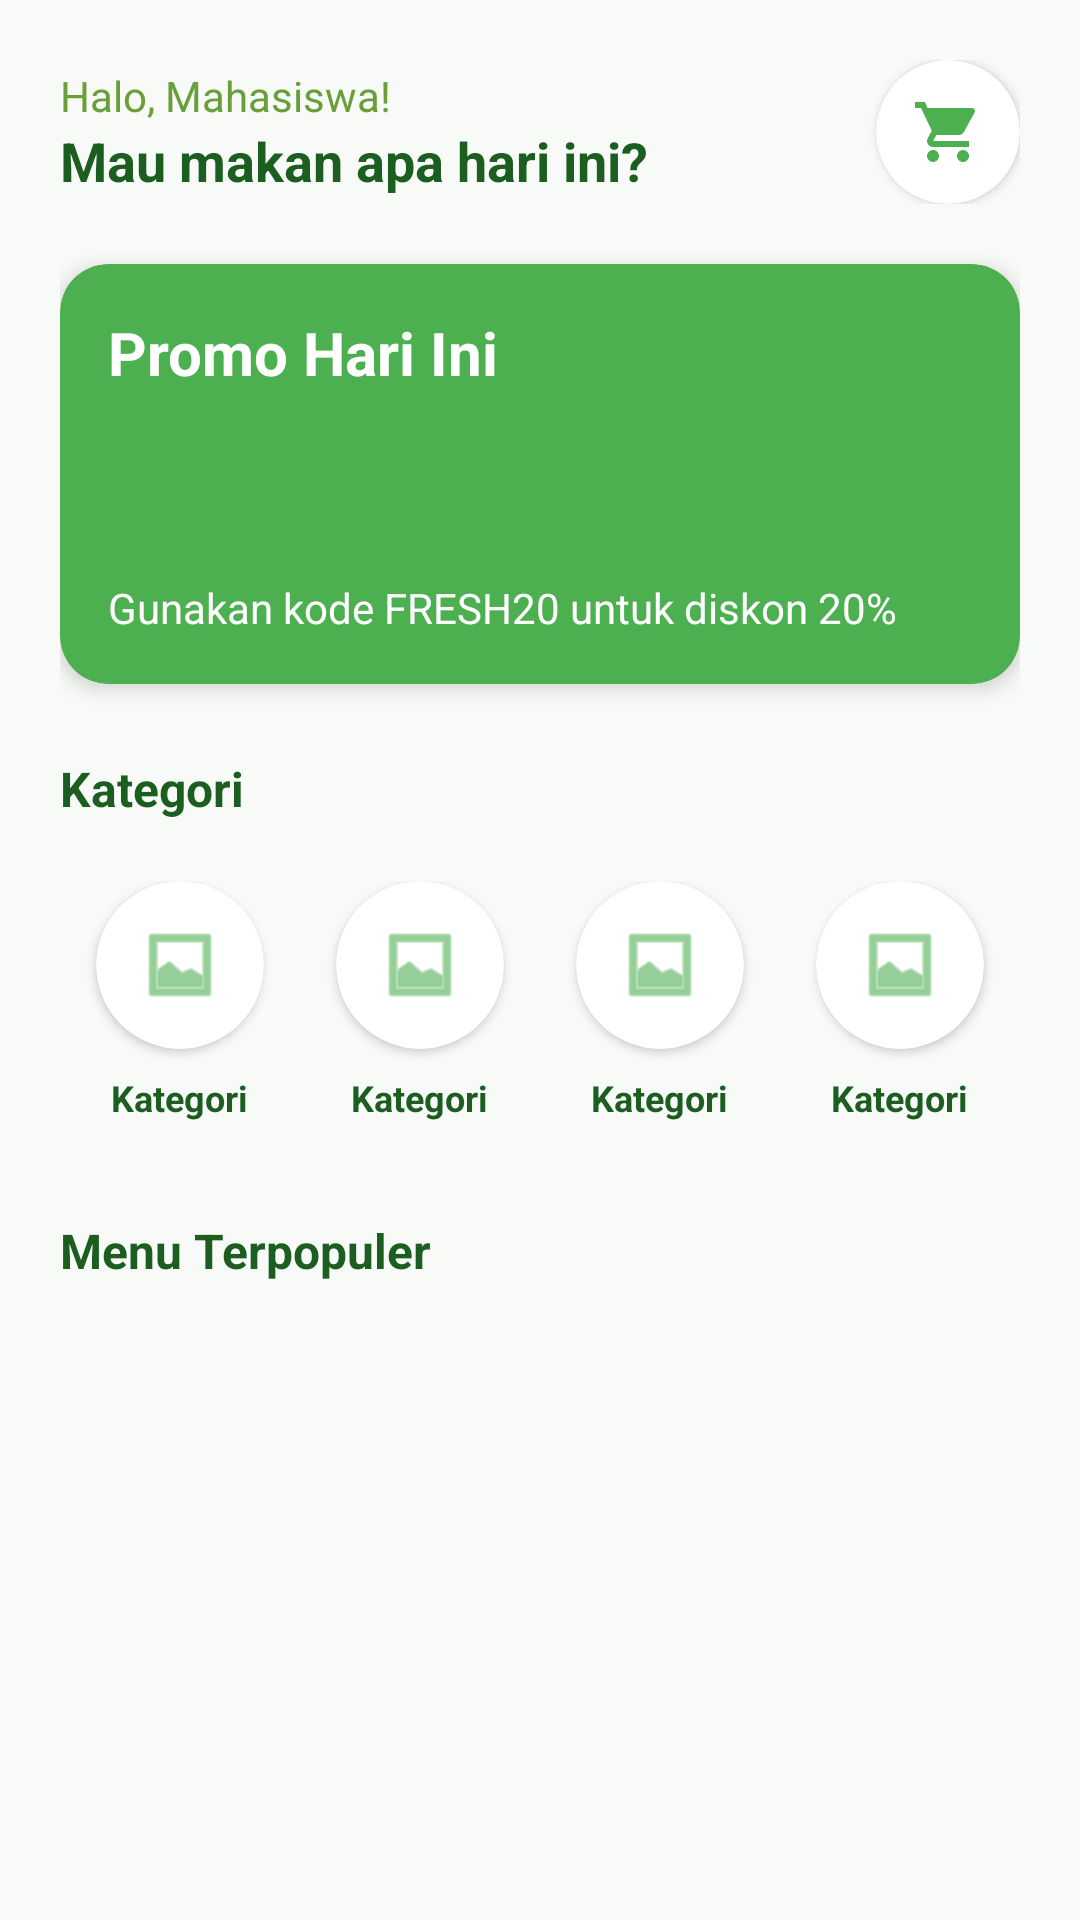

Screen size 1080px x 1920px. Icon name, then its box in pixels as (x1, y1, x2, y2):
Keranjang: (915, 77, 1020, 204)
